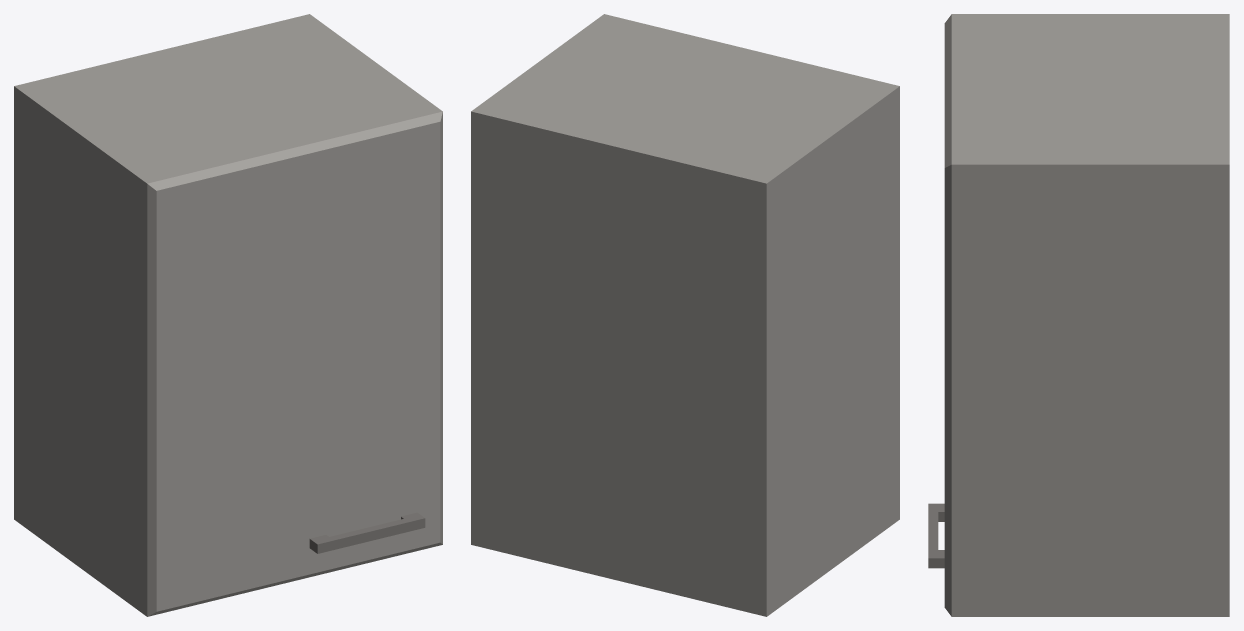
File: SM_Props_Interior_House_Kitchen_Cupboards_01.fbx
3 renders of one model, left to right at view 1: azimuth 30°, elevation 25°; view 2: azimuth 150°, elevation 25°; view 3: azimuth 270°, elevation 25°, orthographic. The views are drawn at different scales.
Parts seen in each view (by area): view 1: SM_Props_Interior_House_Kitchen_Cupboards_01_Door, SM_Props_Interior_House_Kitchen_Cupboards_01; view 2: SM_Props_Interior_House_Kitchen_Cupboards_01, SM_Props_Interior_House_Kitchen_Cupboards_01_Door; view 3: SM_Props_Interior_House_Kitchen_Cupboards_01, SM_Props_Interior_House_Kitchen_Cupboards_01_Door.
Part boxes in pixels (left/top/right/bottom): SM_Props_Interior_House_Kitchen_Cupboards_01_Door: left=142, top=108, right=442, bottom=616; SM_Props_Interior_House_Kitchen_Cupboards_01: left=14, top=14, right=437, bottom=612; SM_Props_Interior_House_Kitchen_Cupboards_01: left=471, top=18, right=894, bottom=616; SM_Props_Interior_House_Kitchen_Cupboards_01_Door: left=599, top=14, right=899, bottom=522; SM_Props_Interior_House_Kitchen_Cupboards_01: left=962, top=14, right=1229, bottom=616; SM_Props_Interior_House_Kitchen_Cupboards_01_Door: left=928, top=14, right=962, bottom=616.
Size of the model in its own units: 50 by 70 by 42.3.
